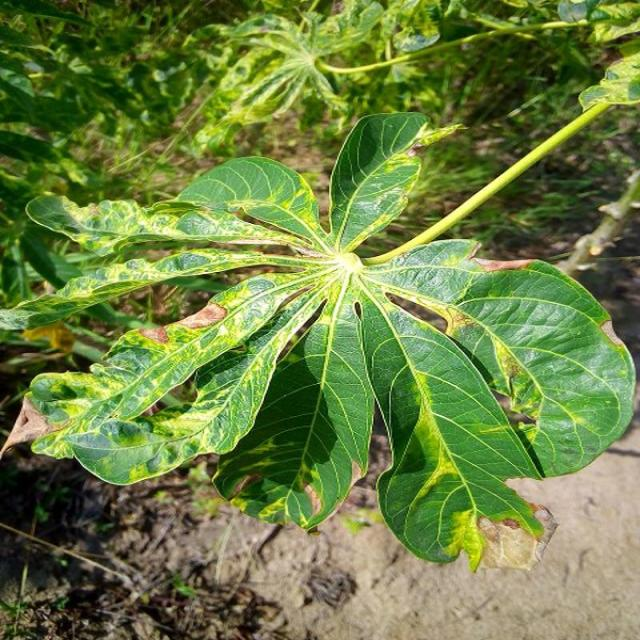cassava leaf: (6, 108, 636, 570)
